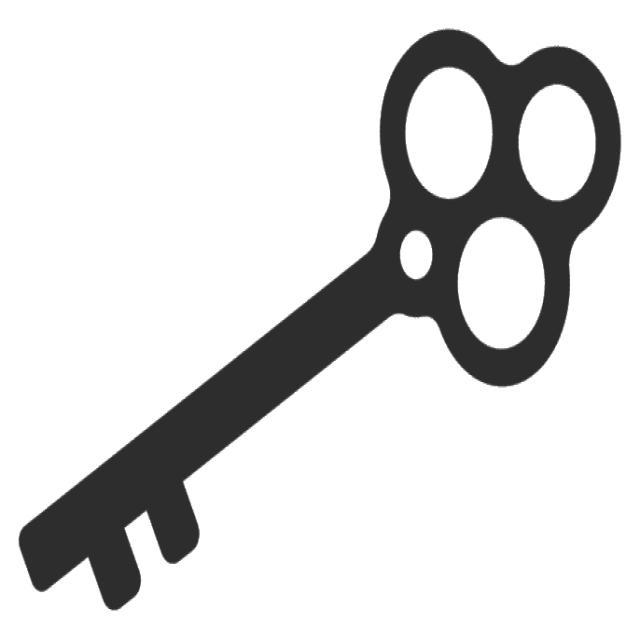key: (9, 22, 635, 627)
